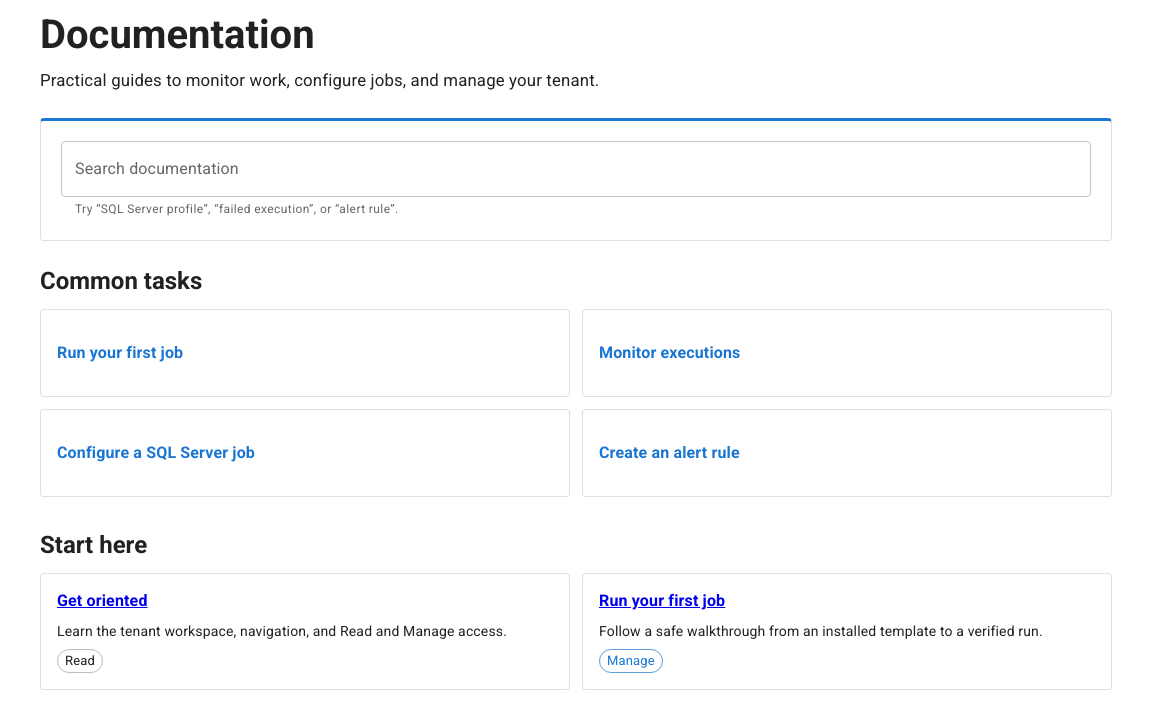
Test: tenant Documentation home › indexes and safely highlights the topic group in search results
Type "operate" into the search field labelled "Search documentation" at [576, 169], box [61, 141, 1091, 197]
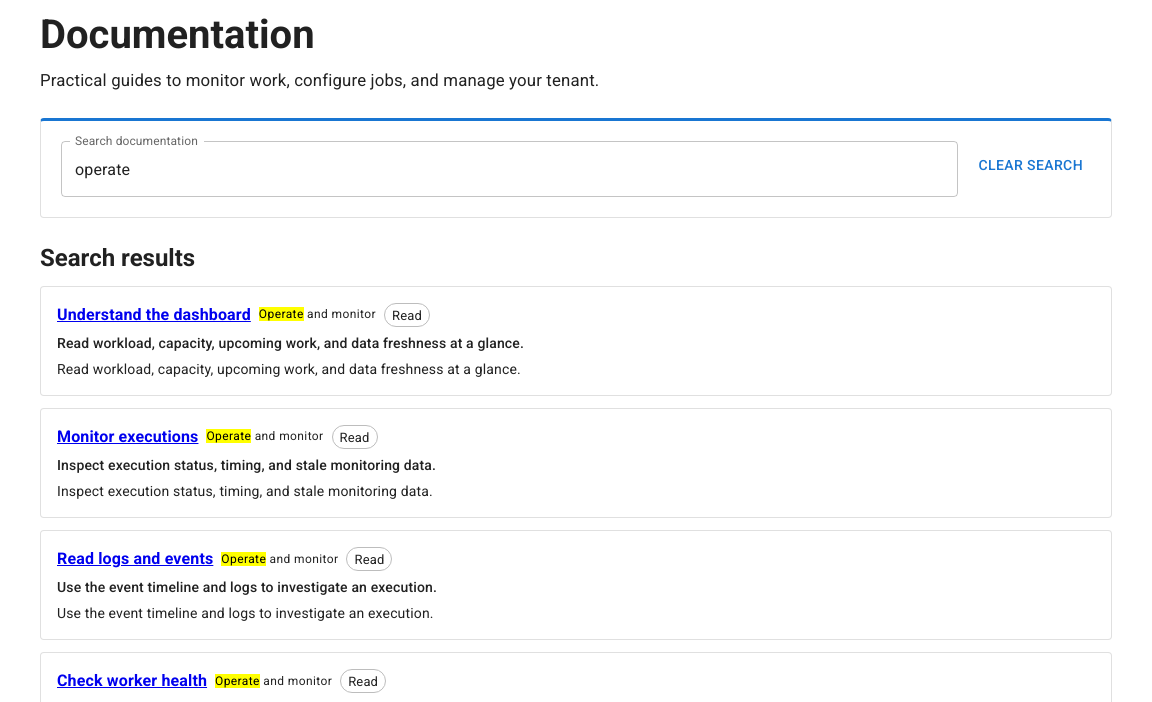
expect the link "Understand the dashboard" is shown: met, box [57, 303, 251, 327]
expect the text "Operate" next to "Understand the dashboard" is shown: met, box [259, 307, 304, 321]
